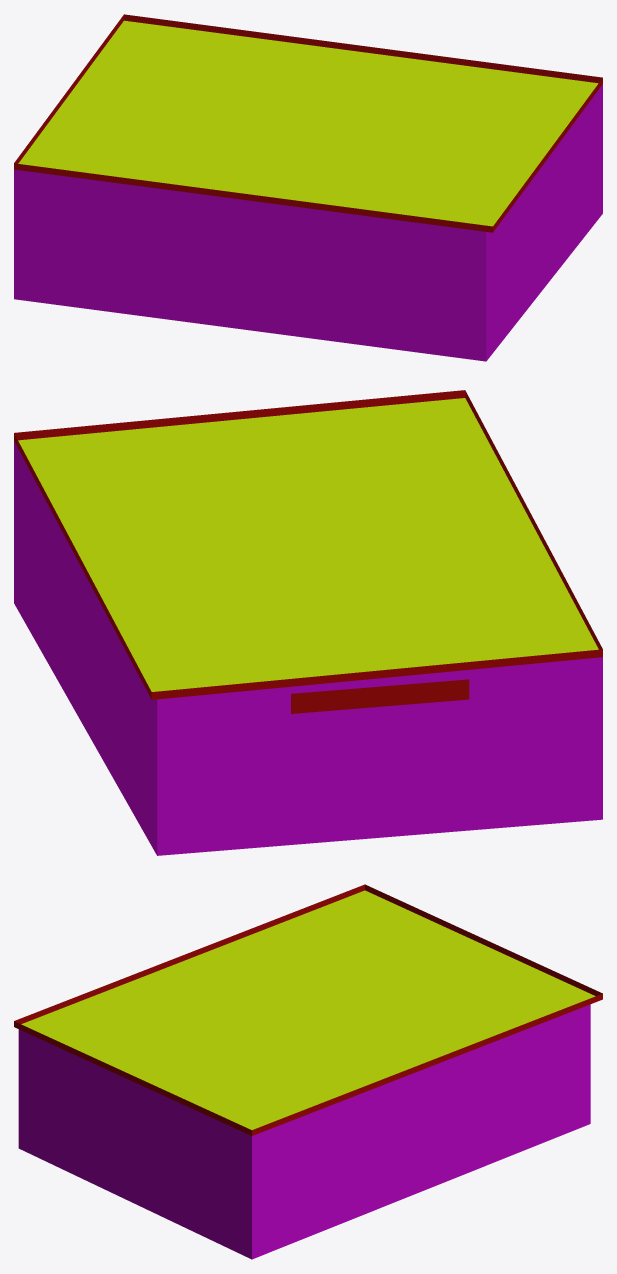
The picture shows the model from 3 angles, top to bottom: view 1: azimuth 30°, elevation 25°; view 2: azimuth 150°, elevation 25°; view 3: azimuth 270°, elevation 25°; orthographic projection. The views are drawn at different scales.
Parts seen in each view (by area): view 1: sc_36; view 2: sc_36; view 3: sc_36.
Boxes of the visible parts, x1,y1,x2,y2 form: sc_36: [14, 14, 602, 361]; sc_36: [14, 390, 602, 855]; sc_36: [14, 884, 602, 1259].
Bounding box in the file's own units: 30.95 × 7.59 × 31.34.
